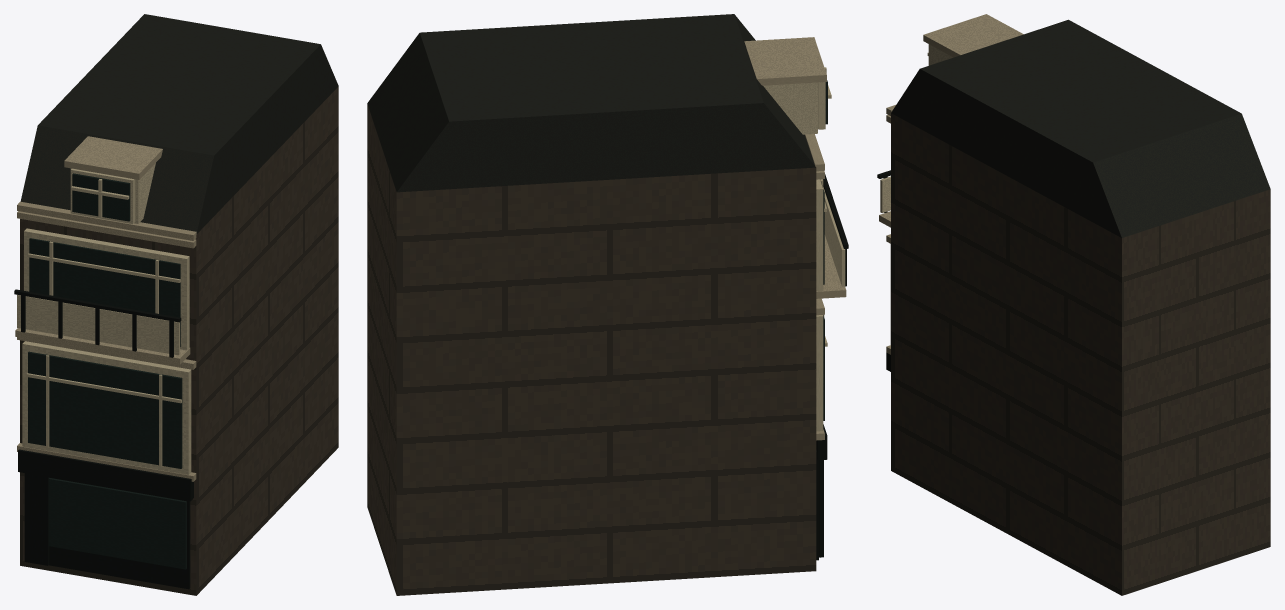
3 views of the same model, side by side, from view 1: azimuth 30°, elevation 25°; view 2: azimuth 150°, elevation 25°; view 3: azimuth 270°, elevation 25° (orthographic). The views are drawn at different scales.
Visible parts, largest first — view 1: delftsevaart26-0, delftsevaart26-1, delftsevaart26-3, delftsevaart26-2, delftsevaart26-5, delftsevaart26-4; view 2: delftsevaart26-0, delftsevaart26-1, delftsevaart26-2, delftsevaart26-4, delftsevaart26-5; view 3: delftsevaart26-0, delftsevaart26-1, delftsevaart26-4, delftsevaart26-2.
Part boxes in pixels (<box>): delftsevaart26-0: <box>20,86,338,595</box>; delftsevaart26-1: <box>20,14,338,233</box>; delftsevaart26-3: <box>28,173,186,569</box>; delftsevaart26-2: <box>17,163,191,474</box>; delftsevaart26-5: <box>14,289,193,589</box>; delftsevaart26-4: <box>15,136,196,481</box>; delftsevaart26-0: <box>367,104,816,595</box>; delftsevaart26-1: <box>367,14,815,192</box>; delftsevaart26-2: <box>763,67,845,431</box>; delftsevaart26-4: <box>744,37,846,440</box>; delftsevaart26-5: <box>816,174,848,560</box>; delftsevaart26-0: <box>891,113,1270,595</box>; delftsevaart26-1: <box>891,19,1270,237</box>; delftsevaart26-4: <box>879,14,1023,354</box>; delftsevaart26-2: <box>880,44,953,344</box>.
Size of the model in its own units: 10.12 by 10.8 by 9.22.
6 materials, 6 textured.
